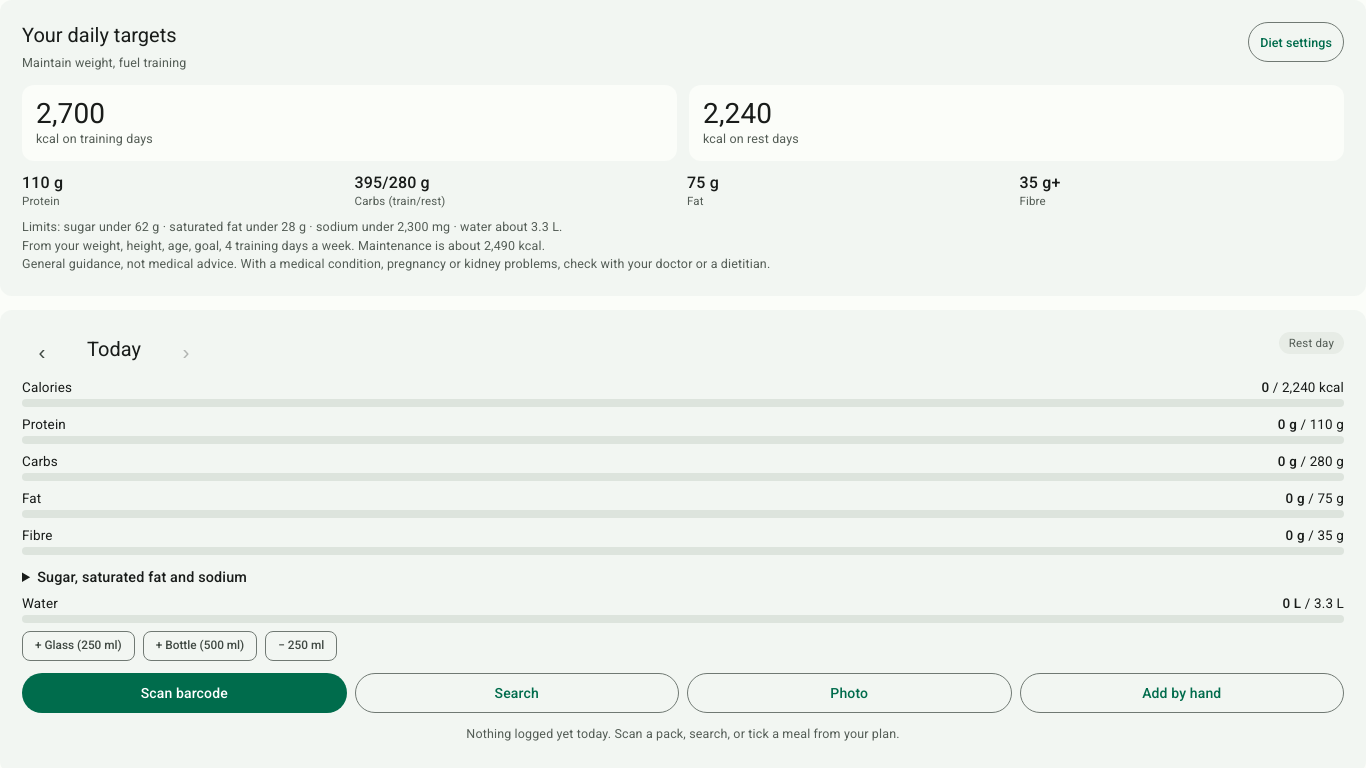
Nutrition screen › adds a food by hand and updates the day
The image size is (1366, 768).
Later steps or results of the test are not shown.
Click the button "Add by hand": [1182, 693] box [1020,673,1344,713]
(page scrolled)
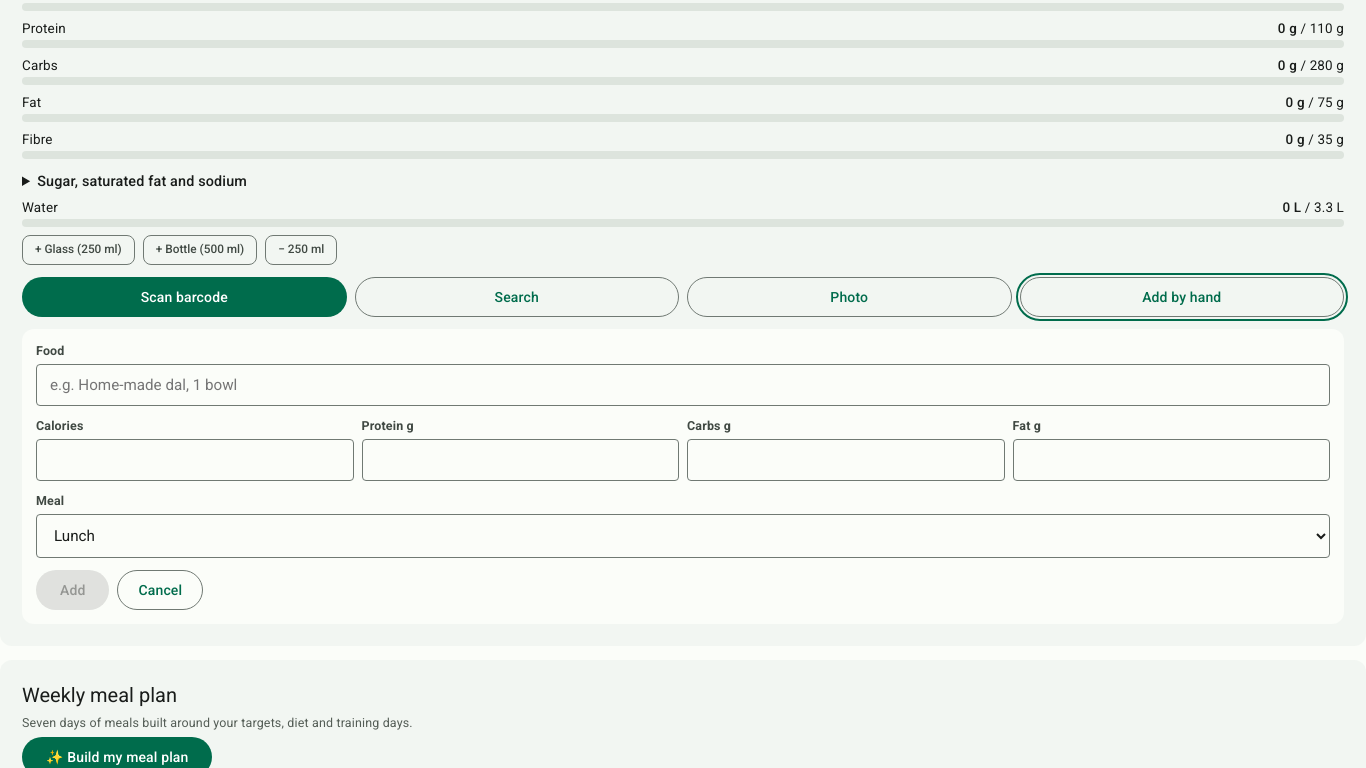
In the field with placeholder "e.g. Home-made dal, 1 bowl": [683, 385] box [36,364,1330,406], type "Dal bowl"
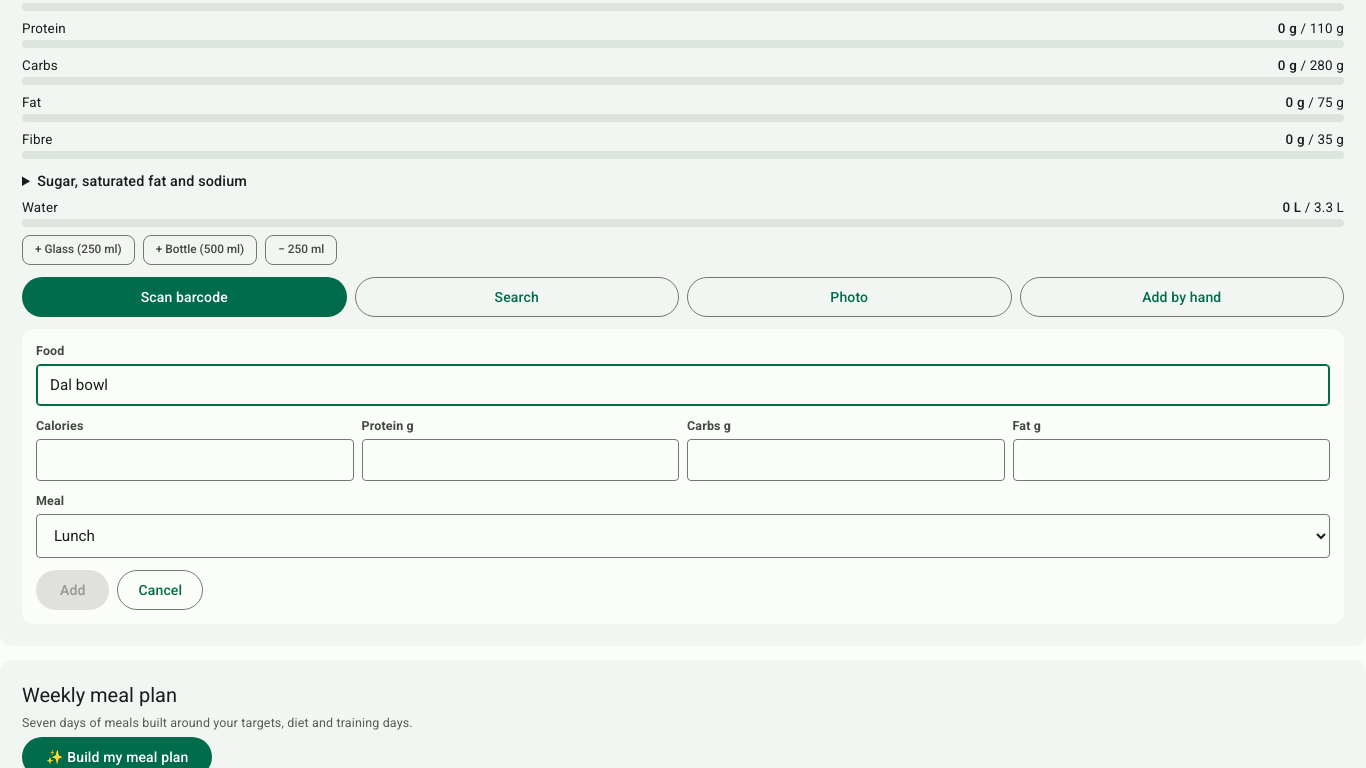
In the number field labelled "Calories": [195, 460] box [36,439,354,481], type "320"
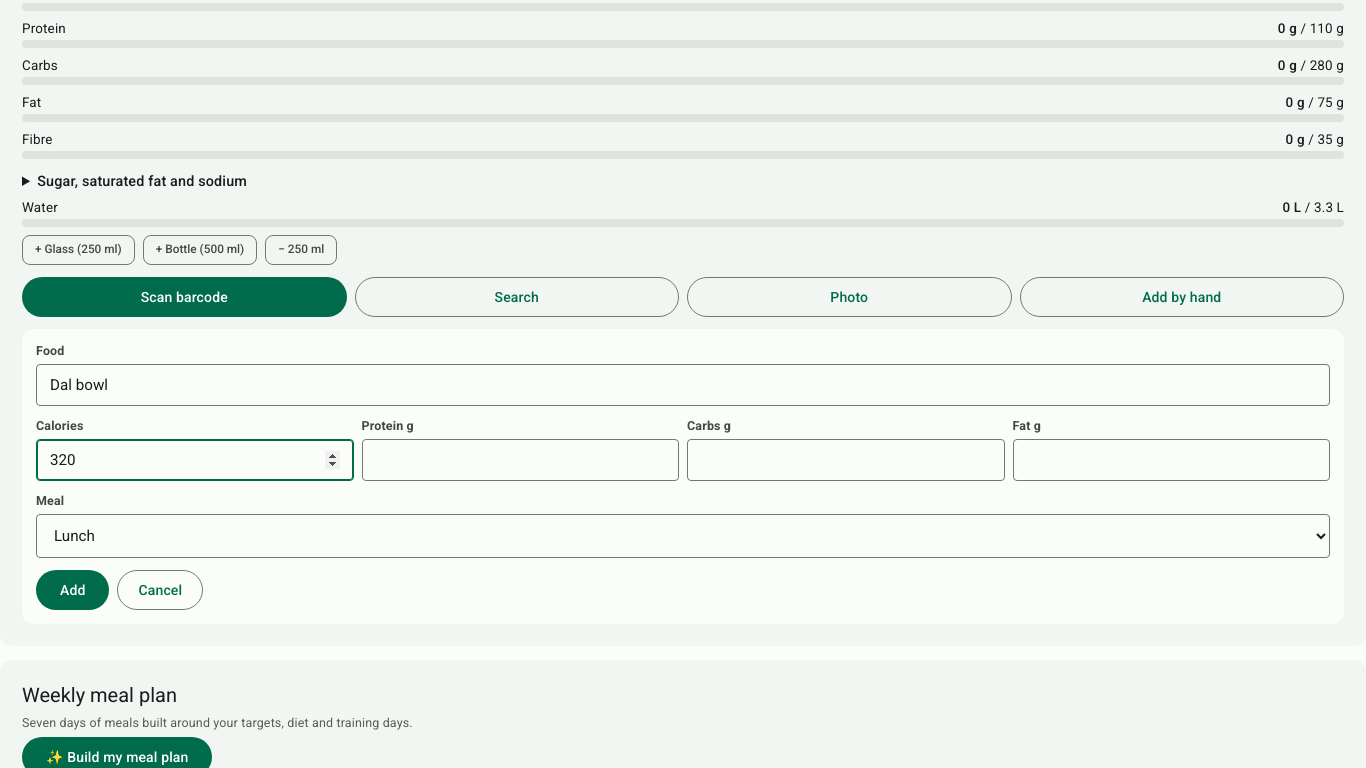
In the number field labelled "Protein g": [520, 460] box [362,439,679,481], type "18"
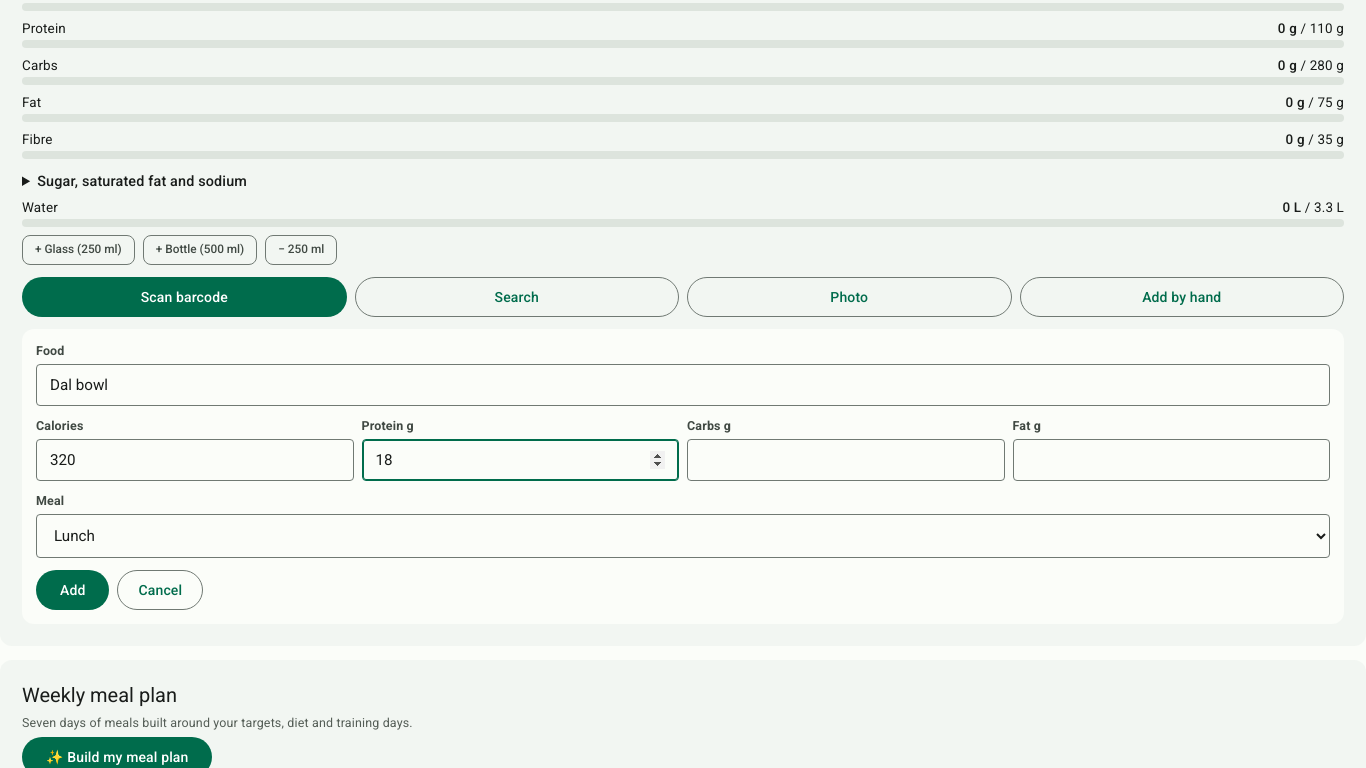
Click the button "Add": [73, 590] box [36,570,110,610]
(page scrolled)
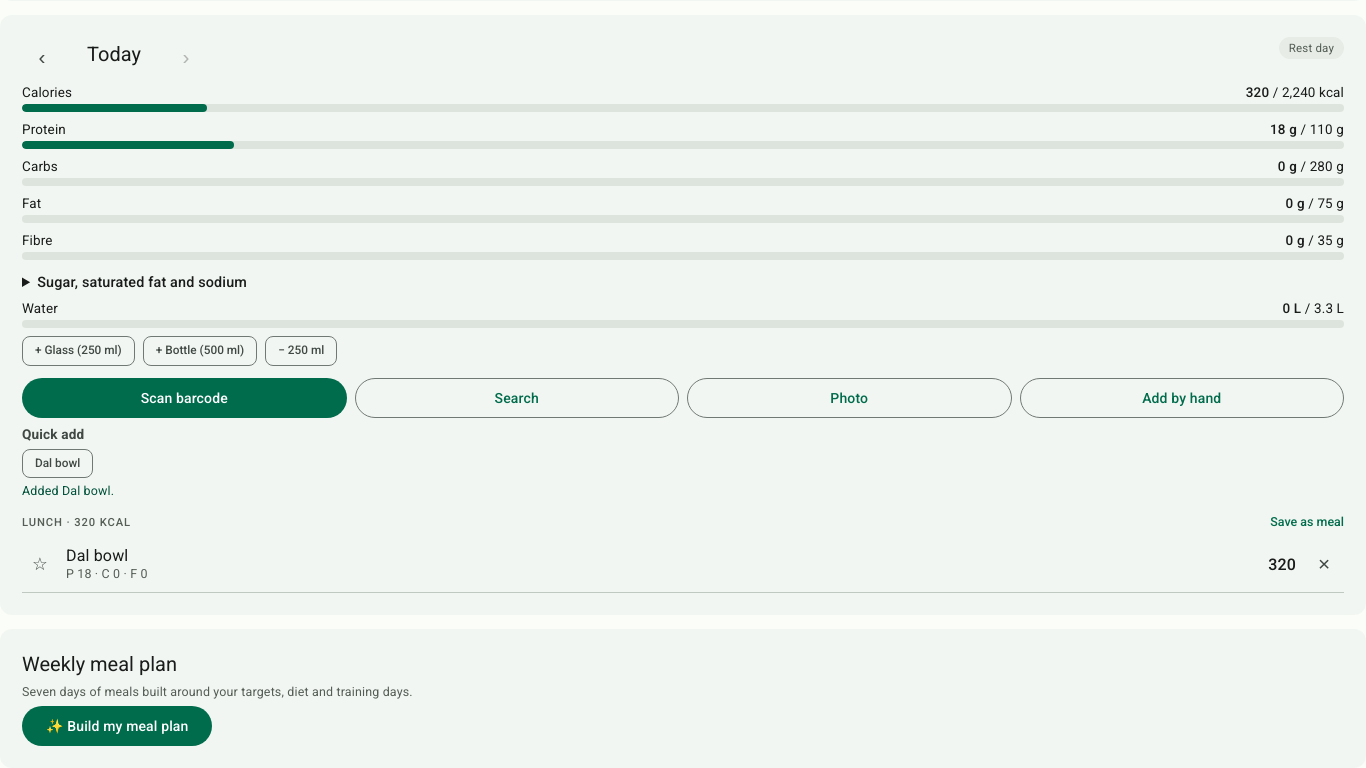
Expected: the button named "Remove Dal bowl" is shown, [1304,544,1344,584]
